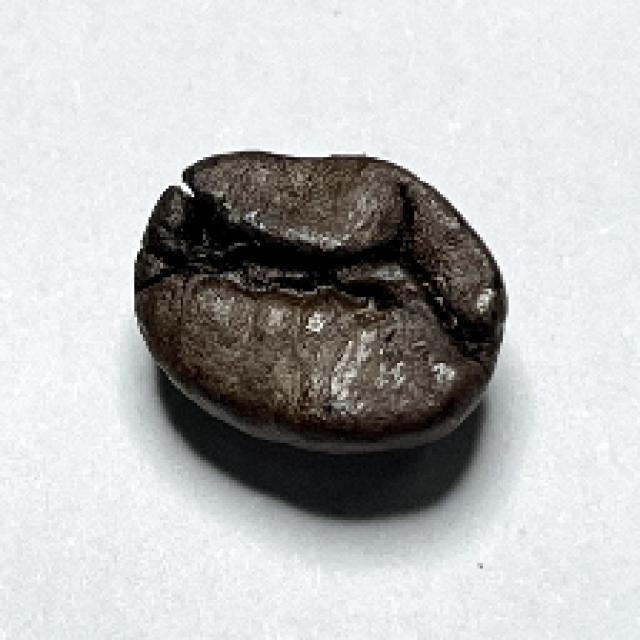bean: (125, 147, 510, 451)
